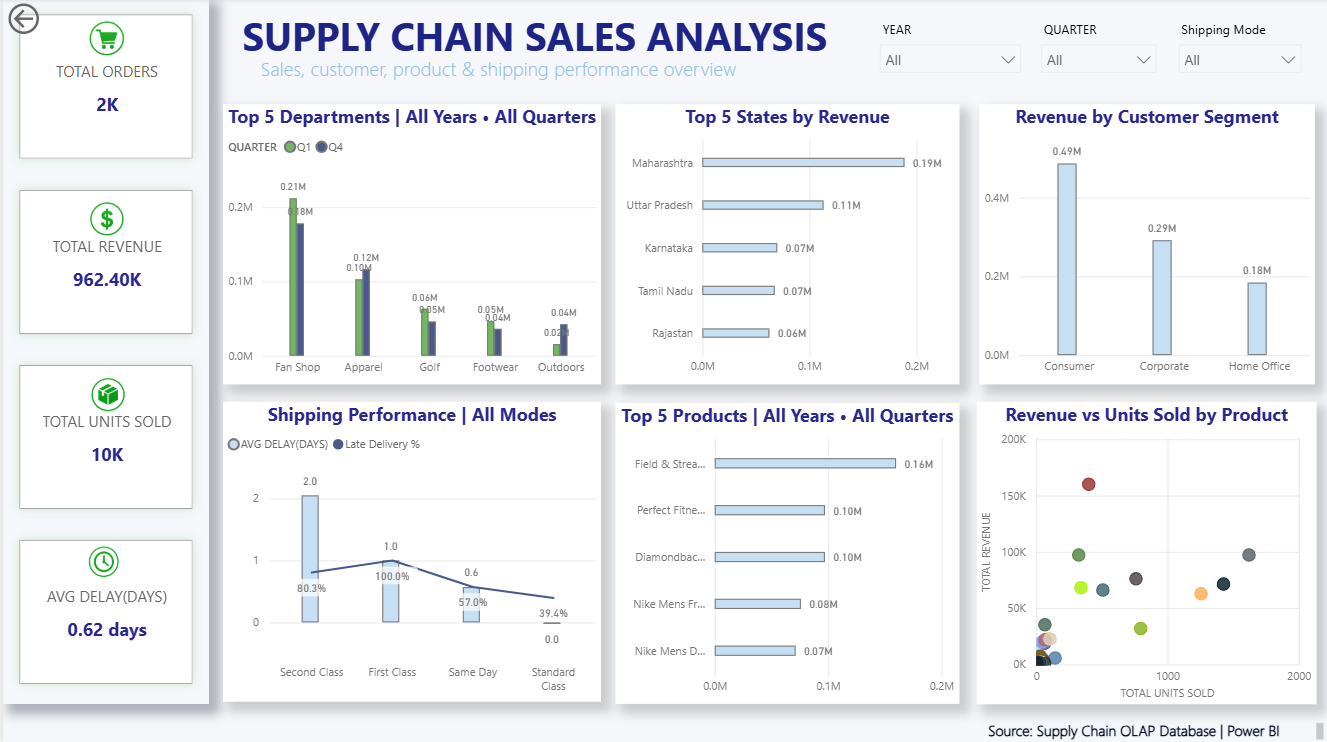

The dashboard page shown, as its layout file describes it:
{"tool":"powerbi","page":{"name":"Page 1","canvas":[1280,720],"ordinal":0},"visuals":[{"type":"cardVisual","fields":{"Data":["Table.Total_Orders","Table.Total_Revenue","Table.Total_Units_Sold","Table.AVG SHIPPING DELAY"]},"box":[0,0,199.1,681.6],"z":0},{"type":"clusteredColumnChart","fields":{"Y":["Table.Total_Revenue"],"Category":["dim_product.department_name"],"Series":["dim_date.QUARTER"]},"box":[212.7,102.9,365,270.3],"z":1000},{"type":"lineClusteredColumnComboChart","fields":{"Category":["dim_shipping.shipping_mode"],"Y":["Table.Average_Shipping_Delay"],"Y2":["Table.Late Delivery %"]},"box":[212.7,389.7,365,289.5],"z":2000},{"type":"clusteredColumnChart","title":"Revenue by Customer Segment","fields":{"Category":["dim_customer.segment"],"Y":["Table.Total_Revenue"]},"box":[942.7,102.9,323.8,270.3],"z":3000},{"type":"barChart","title":"Top 5 States by Revenue","fields":{"Category":["dim_geography.order_state"],"Y":["Table.TOTAL REVENUE"]},"box":[591.4,102.9,332.1,270.3],"z":4000},{"type":"clusteredBarChart","fields":{"Category":["dim_product.product_name"],"Y":["Table.TOTAL REVENUE"]},"box":[591.2,390.9,331.8,290.8],"z":5000},{"type":"scatterChart","title":"Revenue vs Units Sold by Product","fields":{"X":["Table.Total_Units_Sold"],"Y":["Table.Total_Revenue"],"Category":["dim_product.product_name"],"Series":["dim_product.product_name"]},"box":[940,389.7,328,292.3],"z":6000},{"type":"slicer","fields":{"Values":["dim_date.YEAR"]},"box":[835.7,16.5,156.4,86.4],"z":7000},{"type":"slicer","fields":{"Values":["dim_date.QUARTER"]},"box":[992.1,16.5,131.7,86.4],"z":8000},{"type":"slicer","fields":{"Values":["dim_shipping.shipping_mode"]},"box":[1123.8,16.5,138.6,86.4],"z":9000},{"type":"textbox","box":[175.6,5.5,677.9,86.4],"z":10000},{"type":"textbox","box":[244.3,50.8,591.4,41.2],"z":11000},{"type":"textbox","box":[945.5,694.3,334.8,26.1],"z":12000},{"type":"actionButton","box":[0,0,100,40],"z":13000},{"type":"image","box":[59.1,14.5,82,50.7],"z":14000},{"type":"image","box":[59.1,189.4,82,48.3],"z":15000},{"type":"image","box":[49.5,359.5,102.5,48.3],"z":16000},{"type":"image","box":[55.5,522.4,89.3,44.6],"z":17000}]}

Visuals, with their boxes in screenshot pixels (x1, y1, x2, y2), scaled from the page's 1280x720 canvas onto the 1327x742 screenshot:
cardVisual - Table.Total_Orders x Table.Total_Revenue: [x1=0, y1=0, x2=206, y2=702]
clusteredColumnChart - Table.Total_Revenue x dim_product.department_name: [x1=221, y1=106, x2=599, y2=385]
lineClusteredColumnComboChart - dim_shipping.shipping_mode x Table.Average_Shipping_Delay: [x1=221, y1=402, x2=599, y2=700]
"Revenue by Customer Segment" clusteredColumnChart: [x1=977, y1=106, x2=1313, y2=385]
"Top 5 States by Revenue" barChart: [x1=613, y1=106, x2=957, y2=385]
clusteredBarChart - dim_product.product_name x Table.TOTAL REVENUE: [x1=613, y1=403, x2=957, y2=703]
"Revenue vs Units Sold by Product" scatterChart: [x1=975, y1=402, x2=1315, y2=703]
slicer - dim_date.YEAR: [x1=866, y1=17, x2=1029, y2=106]
slicer - dim_date.QUARTER: [x1=1029, y1=17, x2=1165, y2=106]
slicer - dim_shipping.shipping_mode: [x1=1165, y1=17, x2=1309, y2=106]
textbox: [x1=182, y1=6, x2=885, y2=95]
textbox: [x1=253, y1=52, x2=866, y2=95]
textbox: [x1=980, y1=716, x2=1326, y2=741]
actionButton: [x1=0, y1=0, x2=104, y2=41]
image: [x1=61, y1=15, x2=146, y2=67]
image: [x1=61, y1=195, x2=146, y2=245]
image: [x1=51, y1=370, x2=158, y2=420]
image: [x1=58, y1=538, x2=150, y2=584]
